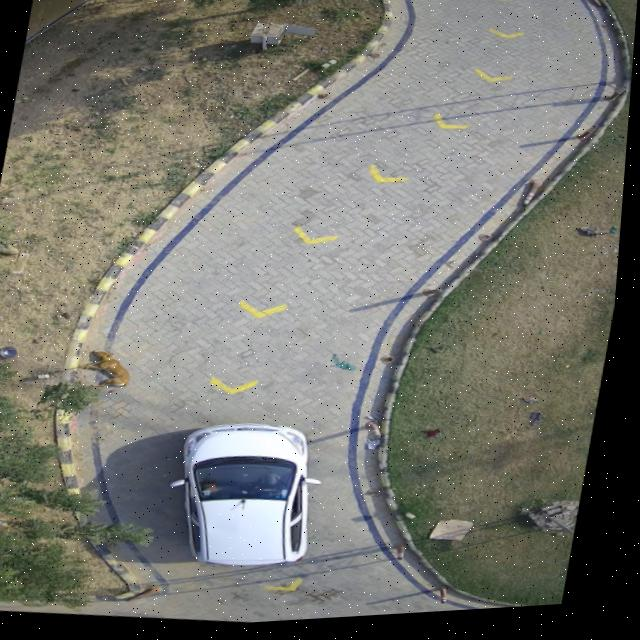car: (190, 427, 315, 569)
